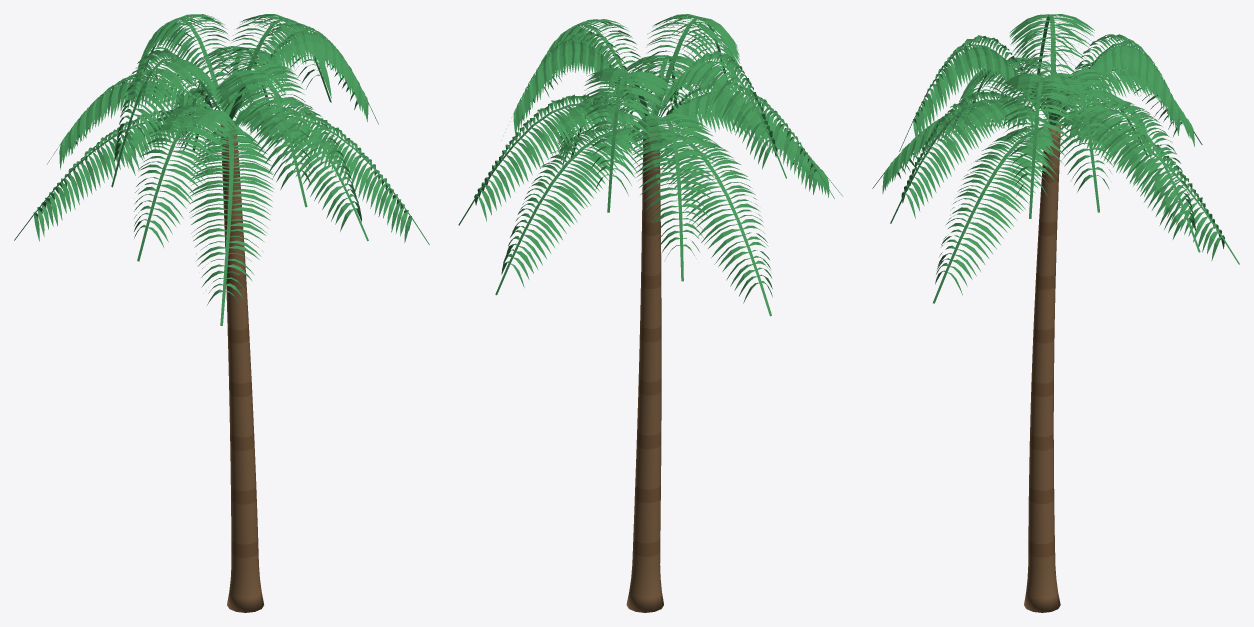
Rendered from boulevard-full.glb.
3 renders of one model, left to right at view 1: azimuth 30°, elevation 25°; view 2: azimuth 150°, elevation 25°; view 3: azimuth 270°, elevation 25°, orthographic. The views are drawn at different scales.
Visible parts, largest first — view 1: boulevard-full-feather-crown, boulevard-full-ringed-trunk; view 2: boulevard-full-feather-crown, boulevard-full-ringed-trunk; view 3: boulevard-full-feather-crown, boulevard-full-ringed-trunk.
Boxes of the visible parts, x1=… form: boulevard-full-feather-crown: x1=14, y1=14, x2=429, y2=325; boulevard-full-ringed-trunk: x1=220, y1=120, x2=263, y2=612; boulevard-full-feather-crown: x1=458, y1=14, x2=842, y2=316; boulevard-full-ringed-trunk: x1=626, y1=128, x2=663, y2=612; boulevard-full-feather-crown: x1=872, y1=14, x2=1239, y2=303; boulevard-full-ringed-trunk: x1=1024, y1=126, x2=1060, y2=612.
Size of the model in its own units: 5.84 by 10.2 by 6.13.
